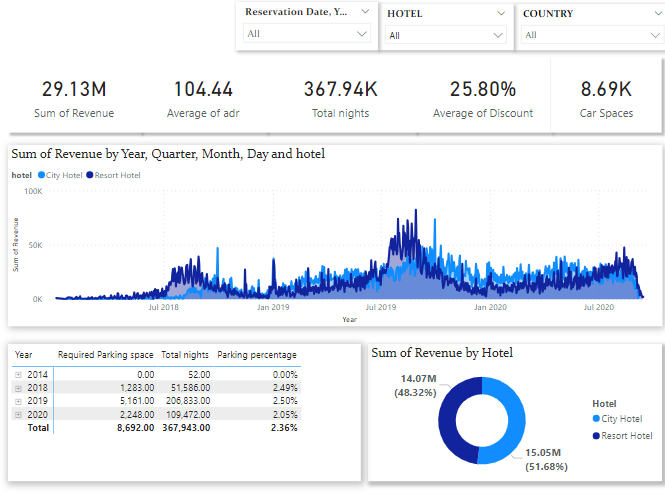

What the dashboard file says about the page in this screenshot:
{"tool":"powerbi","page":{"name":"Page 1","canvas":[960,720],"ordinal":0},"visuals":[{"type":"card","fields":{"Values":["Sum(Query1.Revenue)"]},"box":[13,82.1,188.6,108],"z":0},{"type":"card","fields":{"Values":["Avg(Query1.adr)"]},"box":[201.6,82.1,180,108],"z":1000},{"type":"card","fields":{"Values":["Query1.Total nights"]},"box":[381.6,82.1,213.1,108],"z":2000},{"type":"card","fields":{"Values":["Avg(Query1.Discount)"]},"box":[594.7,82.1,194.4,108],"z":3000},{"type":"areaChart","fields":{"Category":["Query1.reservation_status_date.Variation.Date Hierarchy.Year","Query1.reservation_status_date.Variation.Date Hierarchy.Quarter","Query1.reservation_status_date.Variation.Date Hierarchy.Month","Query1.reservation_status_date.Variation.Date Hierarchy.Day"],"Y":["Sum(Query1.Revenue)"],"Series":["Query1.hotel"]},"box":[13,207.4,934.6,259.2],"z":4000},{"type":"slicer","title":"COUNTRY","fields":{"Values":["Query1.country"]},"box":[735.8,5.8,224.6,66.2],"z":5000},{"type":"slicer","title":"HOTEL","fields":{"Values":["Query1.hotel"]},"box":[541.4,5.8,194.4,66.2],"z":6000},{"type":"card","fields":{"Values":["Sum(Query1.required_car_parking_spaces)"]},"box":[789.1,82.1,158.4,108],"z":7000},{"type":"donutChart","title":"Sum of Revenue by Hotel","fields":{"Category":["Query1.hotel"],"Y":["Sum(Query1.Revenue)"]},"box":[527,491,420.5,195.8],"z":8000},{"type":"pivotTable","fields":{"Values":["Sum(Query1.required_car_parking_spaces)","Query1.Total nights","Query1.Parking percentage"],"Rows":["Query1.reservation_status_date.Variation.Date Hierarchy.Year","Query1.reservation_status_date.Variation.Date Hierarchy.Quarter","Query1.reservation_status_date.Variation.Date Hierarchy.Month","Query1.reservation_status_date.Variation.Date Hierarchy.Day","Query1.hotel"]},"box":[0,491.4,504.3,195.7],"z":9000},{"type":"slicer","fields":{"Values":["Query1.reservation_status_date","Query1.reservation_status_date.Variation.Date Hierarchy.Year","Query1.reservation_status_date.Variation.Date Hierarchy.Quarter","Query1.reservation_status_date.Variation.Date Hierarchy.Month"]},"box":[338.4,2.9,203,69.1],"z":10000},{"type":"textbox","box":[100,100,300,300],"z":11000}]}

Visuals, with their boxes in screenshot pixels (x1, y1, x2, y2), scaled from the page's 960x720 canvas onto the 665x495 screenshot:
card - Sum(Query1.Revenue): (x1=9, y1=56, x2=140, y2=131)
card - Avg(Query1.adr): (x1=140, y1=56, x2=264, y2=131)
card - Query1.Total nights: (x1=264, y1=56, x2=412, y2=131)
card - Avg(Query1.Discount): (x1=412, y1=56, x2=547, y2=131)
areaChart - Query1.reservation_status_date.Variation.Date Hierarchy.Year x Query1.reservation_status_date.Variation.Date Hierarchy.Quarter: (x1=9, y1=143, x2=656, y2=321)
"COUNTRY" slicer: (x1=510, y1=4, x2=664, y2=50)
"HOTEL" slicer: (x1=375, y1=4, x2=510, y2=50)
card - Sum(Query1.required_car_parking_spaces): (x1=547, y1=56, x2=656, y2=131)
"Sum of Revenue by Hotel" donutChart: (x1=365, y1=338, x2=656, y2=472)
pivotTable - Sum(Query1.required_car_parking_spaces) x Query1.Total nights: (x1=0, y1=338, x2=349, y2=472)
slicer - Query1.reservation_status_date x Query1.reservation_status_date.Variation.Date Hierarchy.Year: (x1=234, y1=2, x2=375, y2=50)
textbox: (x1=69, y1=69, x2=277, y2=275)
